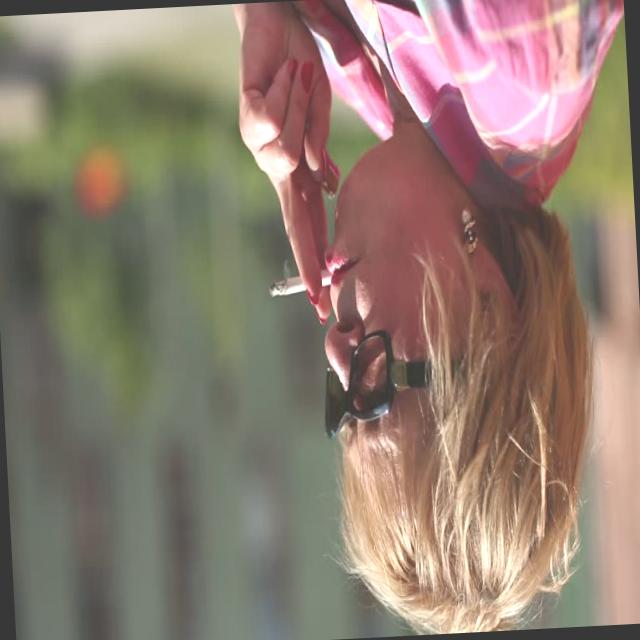cigarette: (270, 264, 337, 302)
